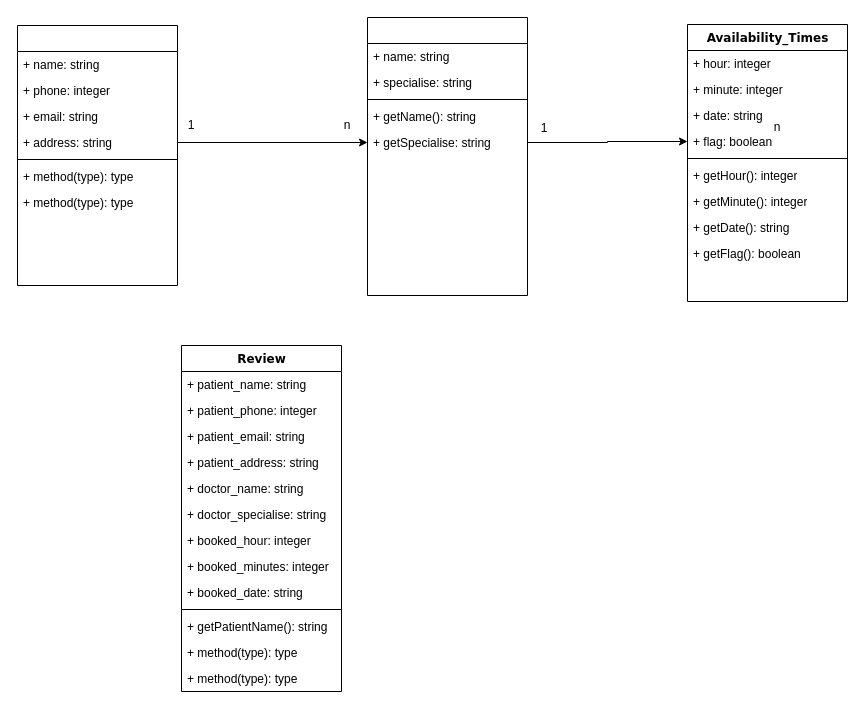
Some shapes in this 865 by 712 pixel diagram are drawn without their labels. The shapes that lost their labels are listed below. From the top down, each one's box as (x1, y1, x2, y2) in pixels, then its label:
(16, 24, 178, 286): Patient
(366, 16, 528, 296): Doctor
